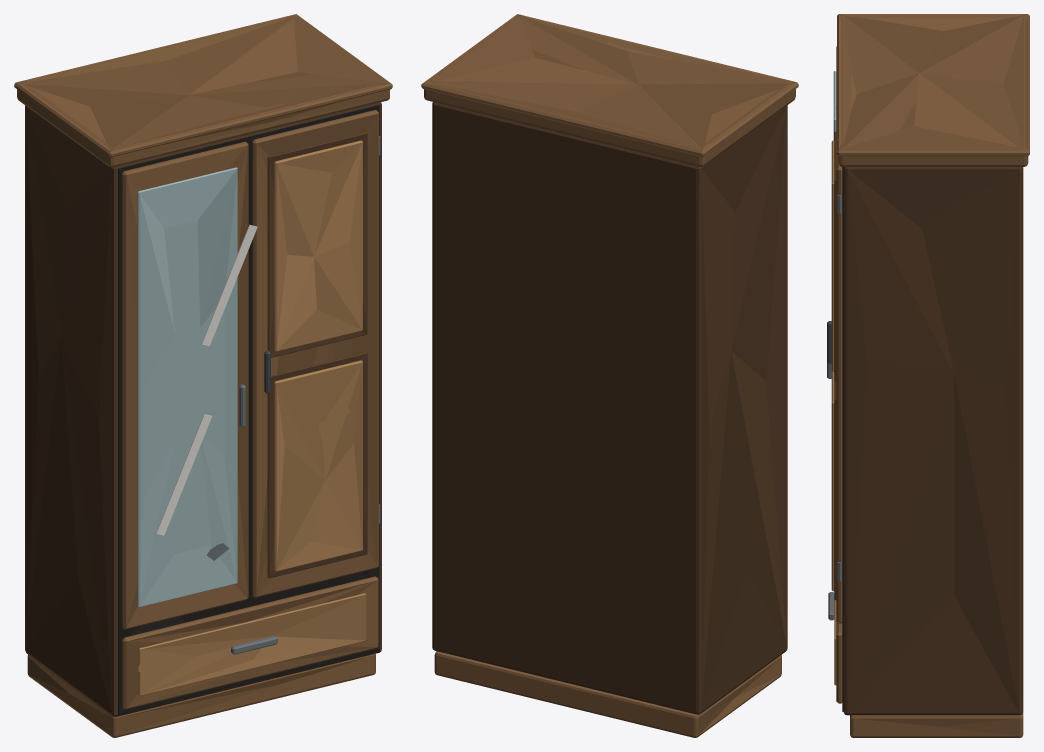
Rendered from wardrobe_garderob_s_zerkalom_idle.glb.
The picture shows the model from 3 angles, left to right: view 1: azimuth 30°, elevation 25°; view 2: azimuth 150°, elevation 25°; view 3: azimuth 270°, elevation 25°; orthographic projection.
Visible parts, largest first — view 1: wardrobe_garderob_s_zerkalom_idle; view 2: wardrobe_garderob_s_zerkalom_idle; view 3: wardrobe_garderob_s_zerkalom_idle.
Part boxes in pixels (left/top/right/bottom): wardrobe_garderob_s_zerkalom_idle: left=14, top=14, right=392, bottom=737; wardrobe_garderob_s_zerkalom_idle: left=421, top=14, right=798, bottom=737; wardrobe_garderob_s_zerkalom_idle: left=827, top=14, right=1029, bottom=737.
Bounding box in the file's own units: 1 × 2 × 0.62.
1 material, 1 textured.
